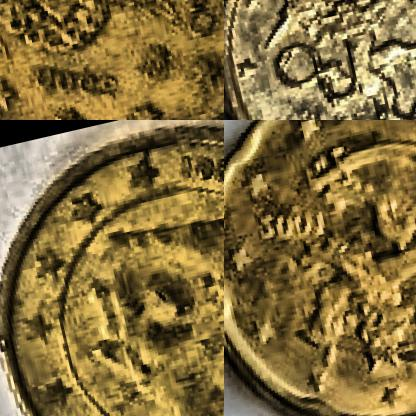coin: (0, 120, 223, 415), (224, 120, 415, 415), (0, 0, 223, 119), (224, 0, 415, 119)
